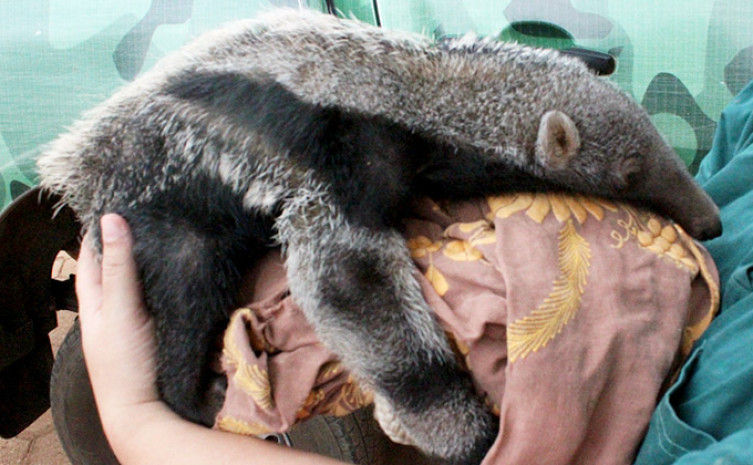TamanduaBandeira: (44, 18, 725, 446)
